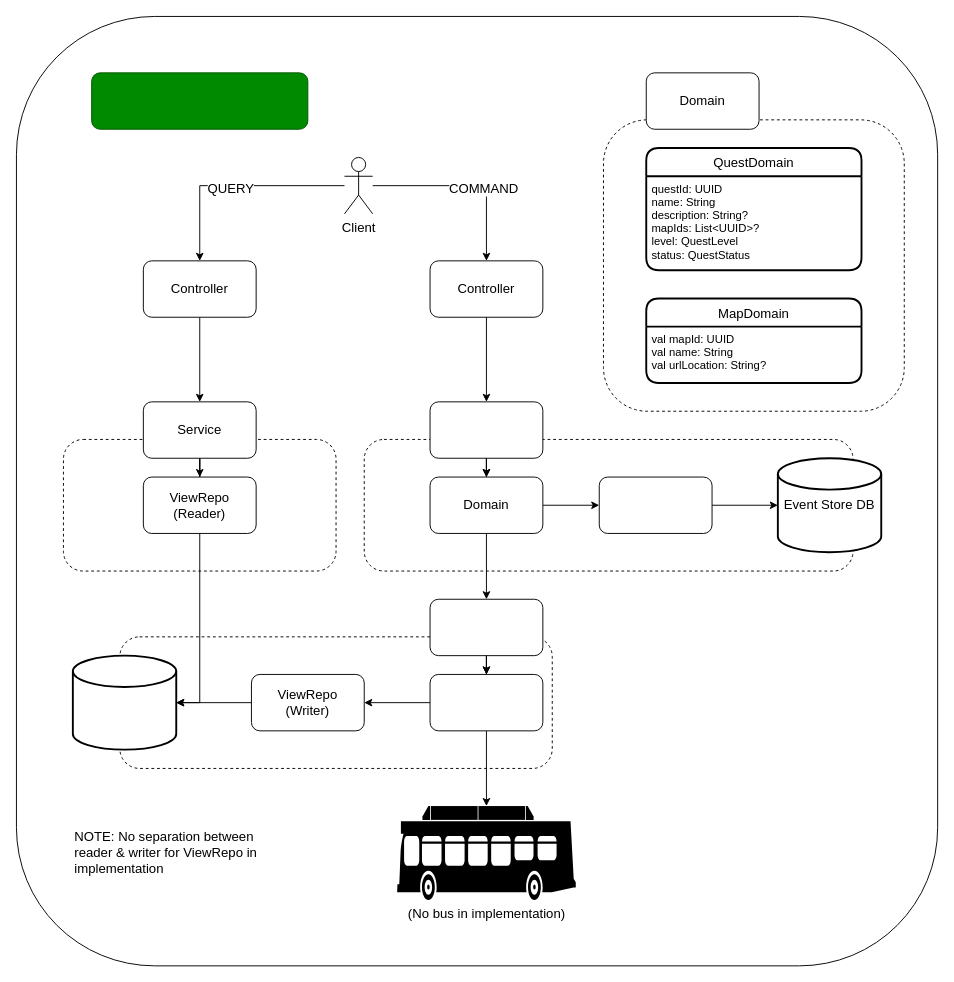
Image size: 954x982. Some labels were removed from this diagram. Each missing label, with the centre of its shape:
Command Handler: point (486, 429)
Event Projector: point (486, 627)
EventStoreRepo: point (655, 504)
Template API Design: point (199, 100)
View: point (486, 702)
View DB: point (124, 702)
